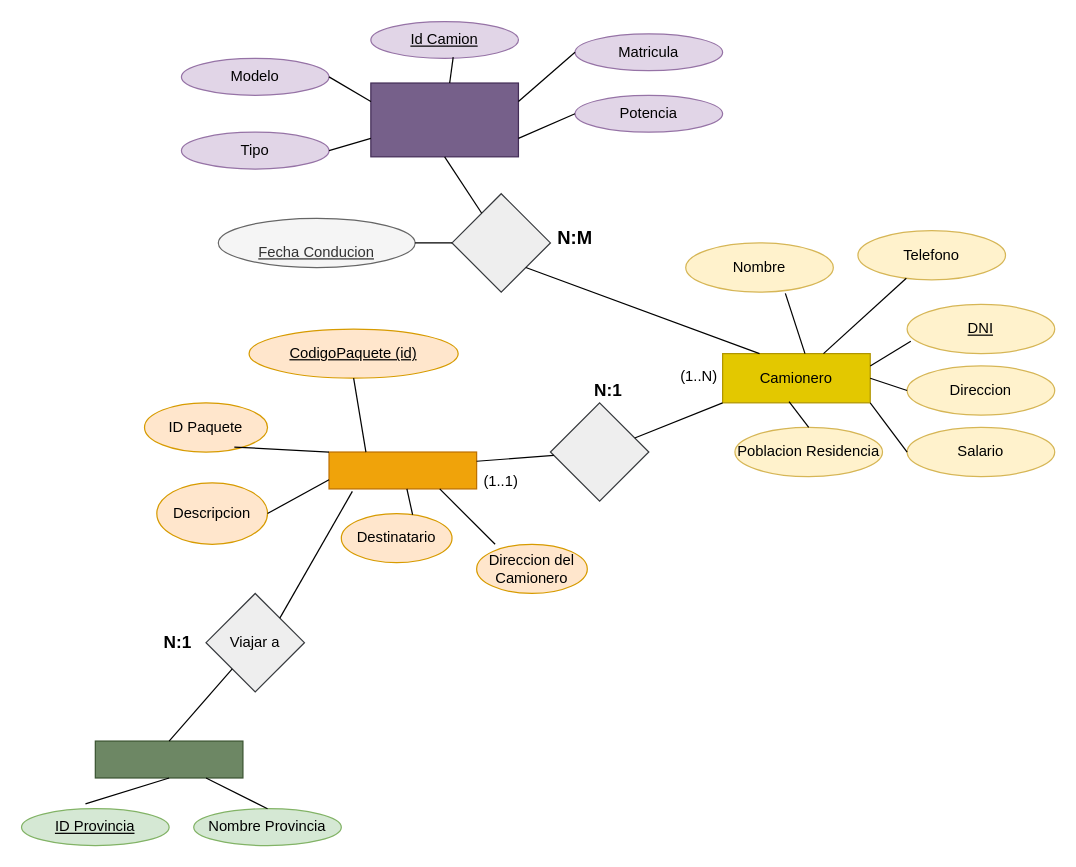
This 1076x867 diagram has some shape labels left out. Each missing label, with the centre of its shape:
Camion: (444,119)
Conduce: (500,242)
Paquetes: (402,470)
Provincia Destino: (168,759)
Transporta: (599,451)
